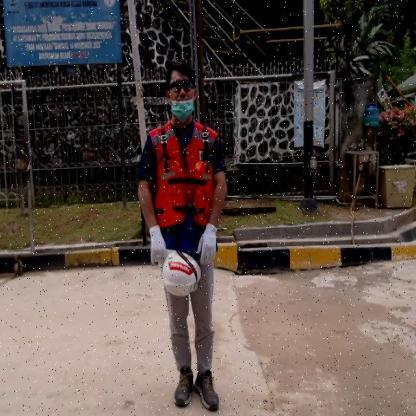boots: (194, 370, 220, 413), (172, 368, 194, 410)
gloves: (197, 224, 217, 266), (147, 226, 168, 264)
goggles: (168, 81, 196, 93)
helmet: (162, 250, 201, 296)
mask: (171, 100, 194, 122)
vest: (156, 160, 212, 224)
